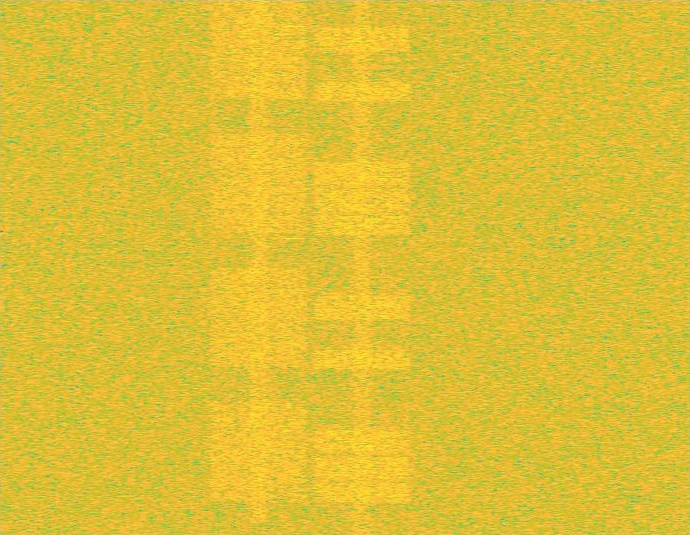5G: (207, 0, 311, 534)
DSSS: (247, 0, 270, 534), (351, 0, 374, 534)
LTE: (311, 0, 414, 534)
Radar: (287, 0, 301, 534)
